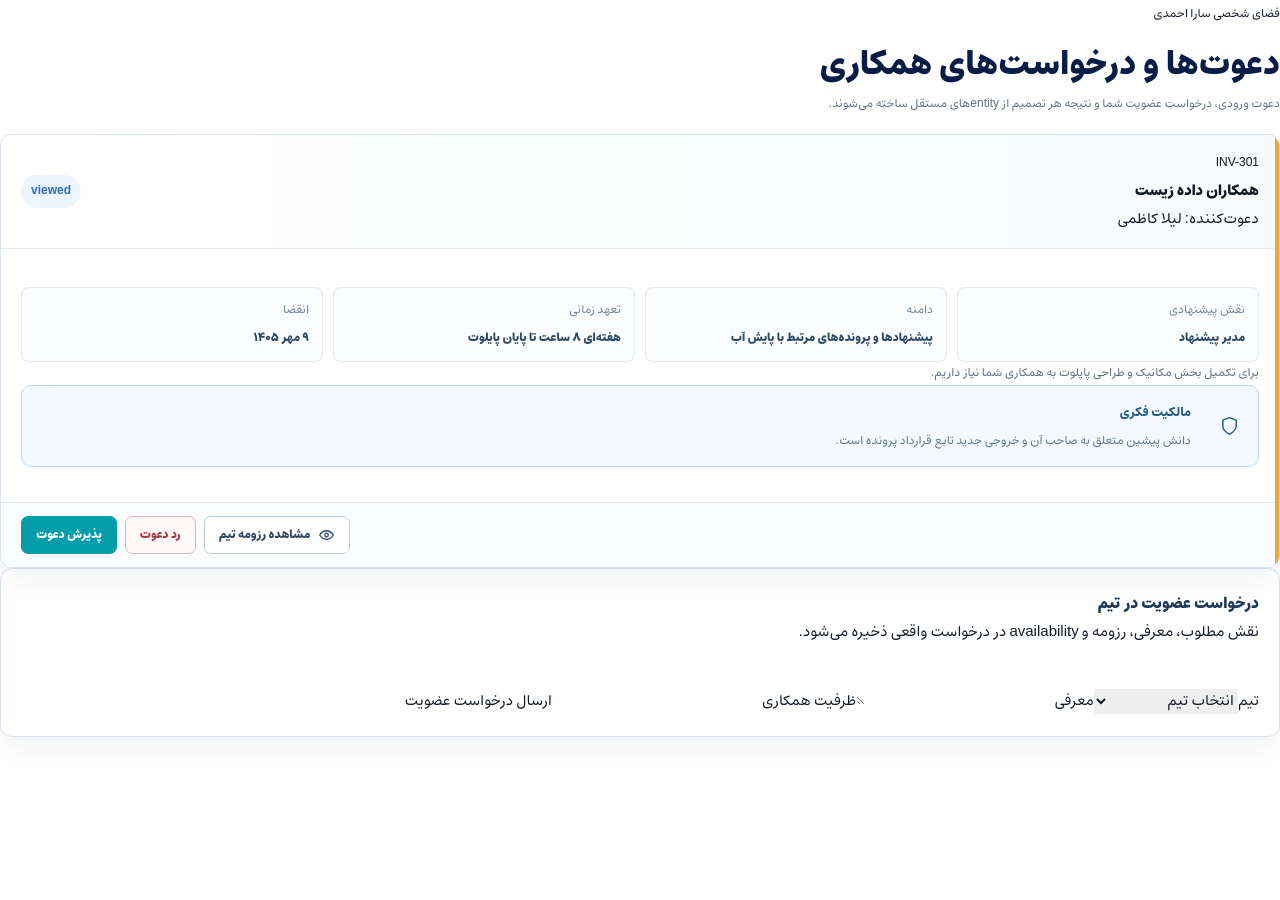
Test case: اصلاحات رابط Solver نسخه ۲۹ › رزومه تیم دعوت‌کننده را از دعوت واقعی در دیالوگ کامل باز می‌کند
The image size is (1280, 900).
What coordinates should you click on to do the following:
click the button "مشاهده رزومه تیم"
I would click on:
 (277, 535)
Its box is [204, 516, 350, 554].
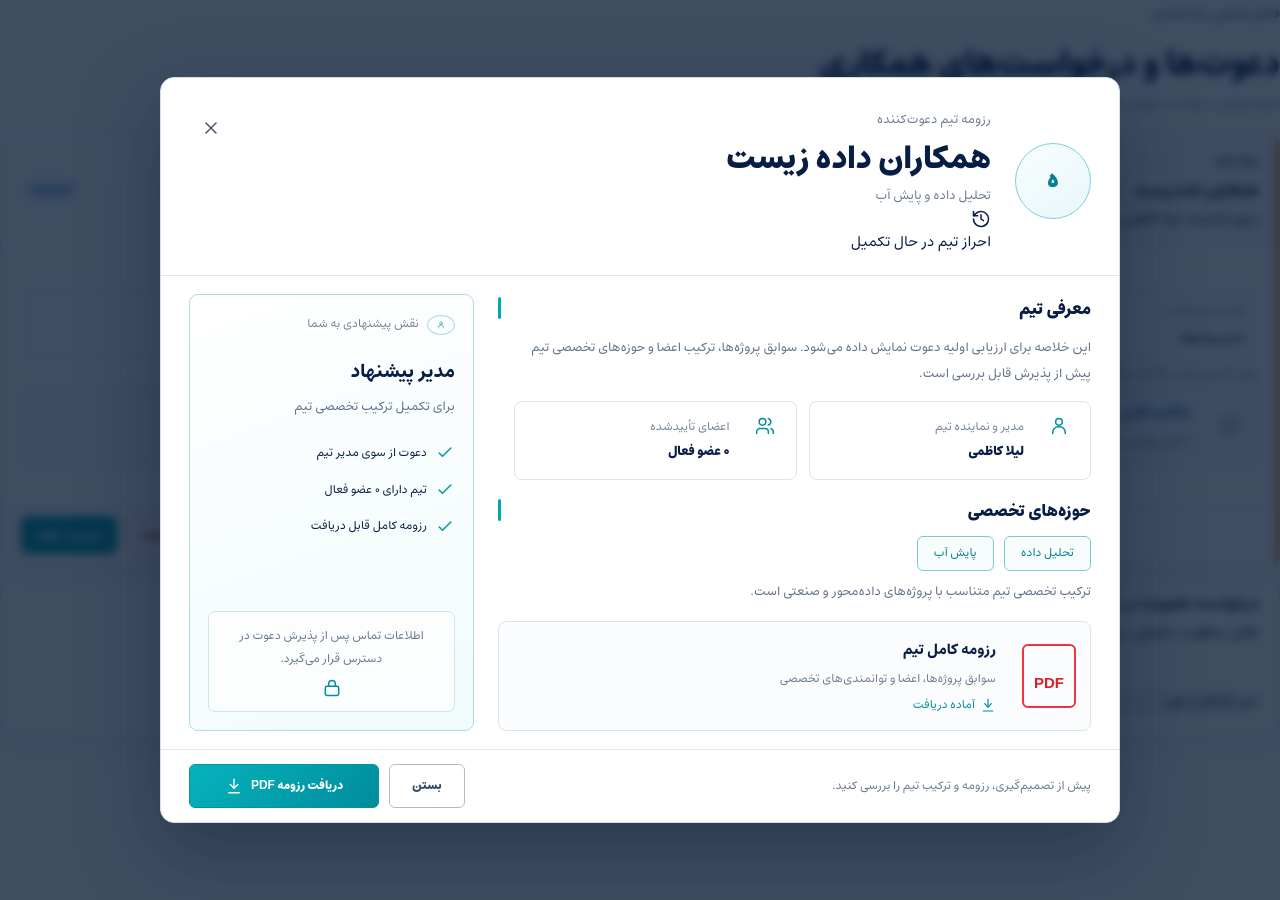
Check: the dialog "رزومه تیم دعوت‌کننده" shows "همکاران داده زیست", box [726, 135, 991, 185]
Check: the dialog "رزومه تیم دعوت‌کننده" shows "مدیر پیشنهاد", box [351, 357, 455, 387]
Check: the dialog "رزومه تیم دعوت‌کننده" shows "احراز تیم در حال تکمیل", box [851, 231, 991, 254]
What coordinates should you click on to do the following:
click the button "بستن"
I would click on:
 (427, 786)
Its box is [389, 764, 465, 808].
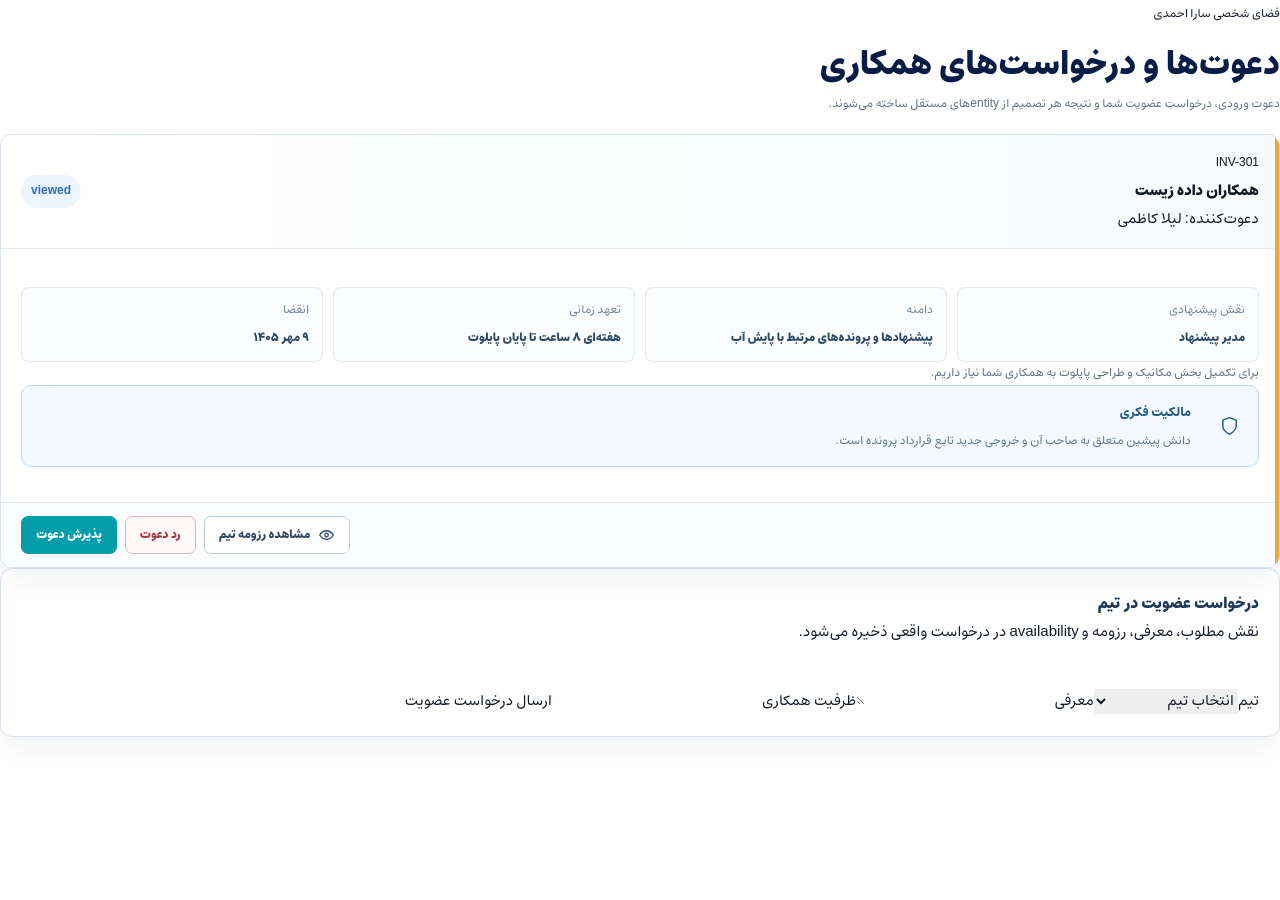
Check: the text "رزومه تیم دعوت‌کننده" is gone
